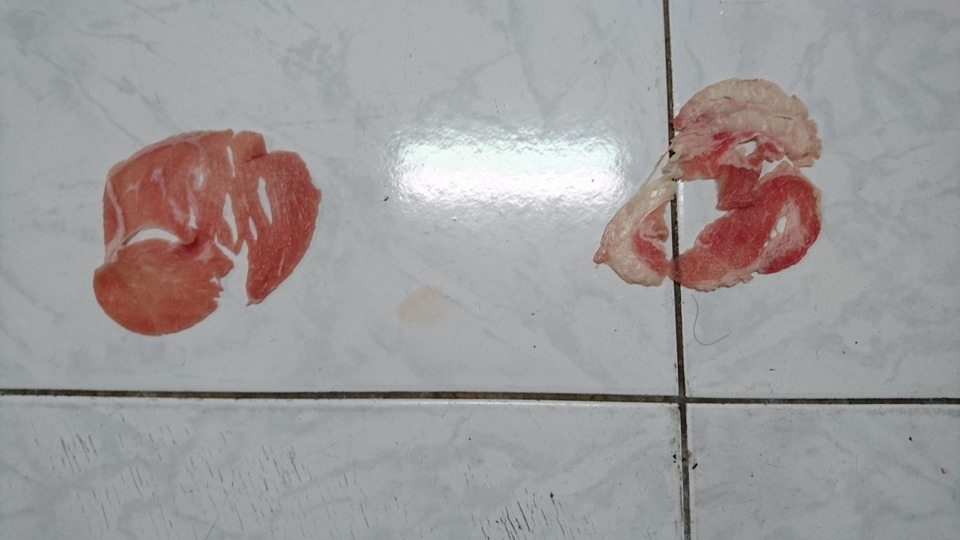restructured meat: (582, 72, 830, 290), (94, 124, 322, 345)
